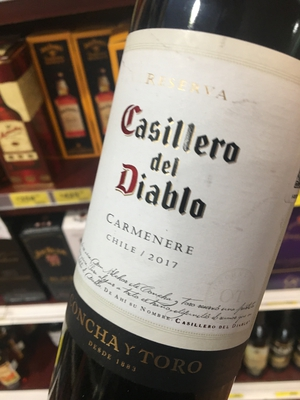casillero del diablo carmenere: (67, 17, 300, 399)
